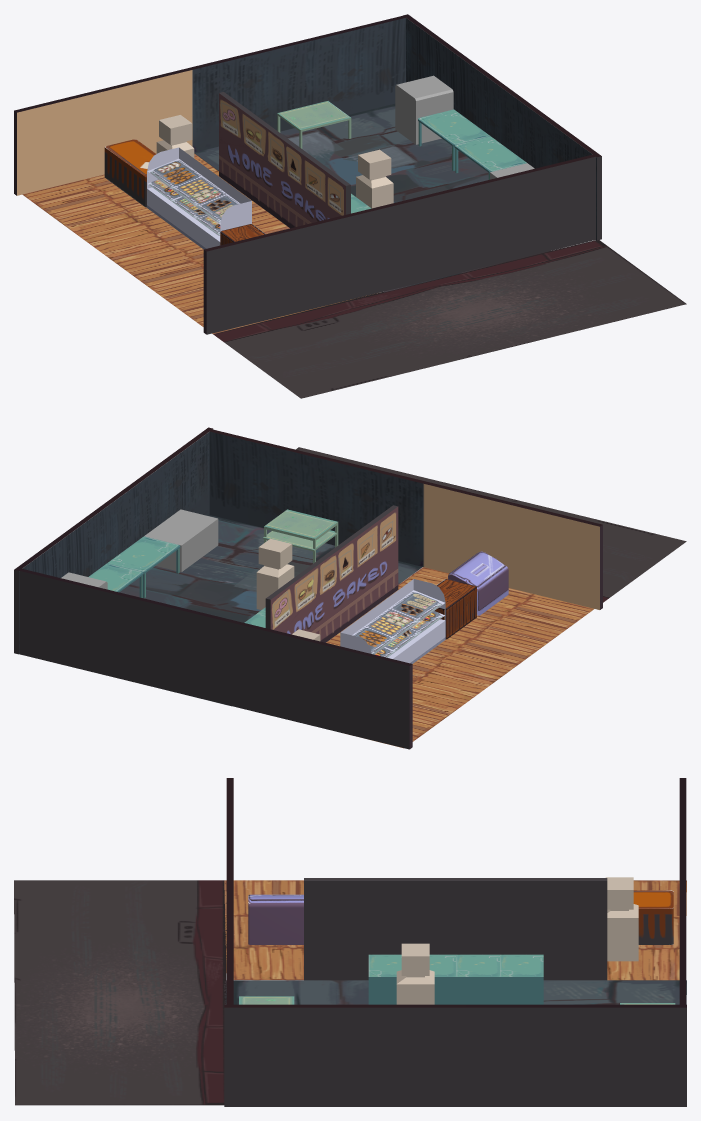
The model's file is SugarIce_Scene.fbx.
3 renders of one model, top to bottom at view 1: azimuth 30°, elevation 25°; view 2: azimuth 150°, elevation 25°; view 3: azimuth 270°, elevation 25°, orthographic. The views are drawn at different scales.
Visible parts, largest first — view 1: Walls, Street, wood_Floor, Separate_wall, Dark_Floor, Food_STall, polySurface2, Front_Desk, pCube28, L_Table1, polySurface22, L_Table2 (+2 smaller); view 2: Walls, wood_Floor, Separate_wall, Dark_Floor, Food_STall, Street, drug_table_1_, fridge, pCube28, Small_Table, L_Table2, polySurface12 (+2 smaller); view 3: Walls, Street, Separate_wall, wood_Floor, Dark_Floor, fridge, pCube27, work_table2, work_table3, pCube28, Front_Desk, work_table (+2 smaller).
Boxes of the visible parts, x1,y1,x2,y2 form: Walls: (14, 14, 601, 334); Street: (213, 240, 686, 398); wood_Floor: (22, 153, 366, 333); Separate_wall: (219, 92, 350, 228); Dark_Floor: (194, 103, 575, 292); Food_STall: (147, 147, 251, 249); polySurface2: (395, 75, 453, 144); Front_Desk: (104, 139, 156, 207); pCube28: (356, 149, 393, 208); L_Table1: (418, 109, 490, 170); polySurface22: (277, 101, 351, 148); L_Table2: (454, 136, 526, 179); Walls: (14, 427, 602, 749); wood_Floor: (326, 567, 593, 748); Separate_wall: (265, 505, 398, 642); Dark_Floor: (119, 515, 422, 706); Food_STall: (340, 579, 445, 663); Street: (296, 447, 686, 602); drug_table_1_: (263, 509, 338, 563); fridge: (448, 551, 508, 615); pCube28: (256, 538, 294, 609); Small_Table: (435, 579, 476, 639); L_Table2: (107, 536, 180, 597); polySurface12: (144, 523, 199, 571); Walls: (224, 778, 686, 1106); Street: (14, 880, 226, 1105); Separate_wall: (304, 878, 607, 980); wood_Floor: (224, 880, 686, 980); Dark_Floor: (224, 980, 686, 1004); fridge: (248, 894, 303, 944); pCube27: (605, 877, 638, 961); work_table2: (456, 954, 499, 1004); work_table3: (500, 954, 543, 1004); pCube28: (396, 943, 434, 1004); Front_Desk: (633, 890, 673, 944); work_table: (368, 954, 401, 1004).
Bounding box in the file's own units: 12.39 × 2.64 × 15.35.
